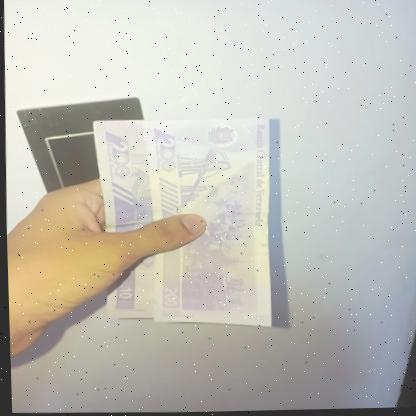two_hundred-back-vef: (137, 115, 274, 331)
